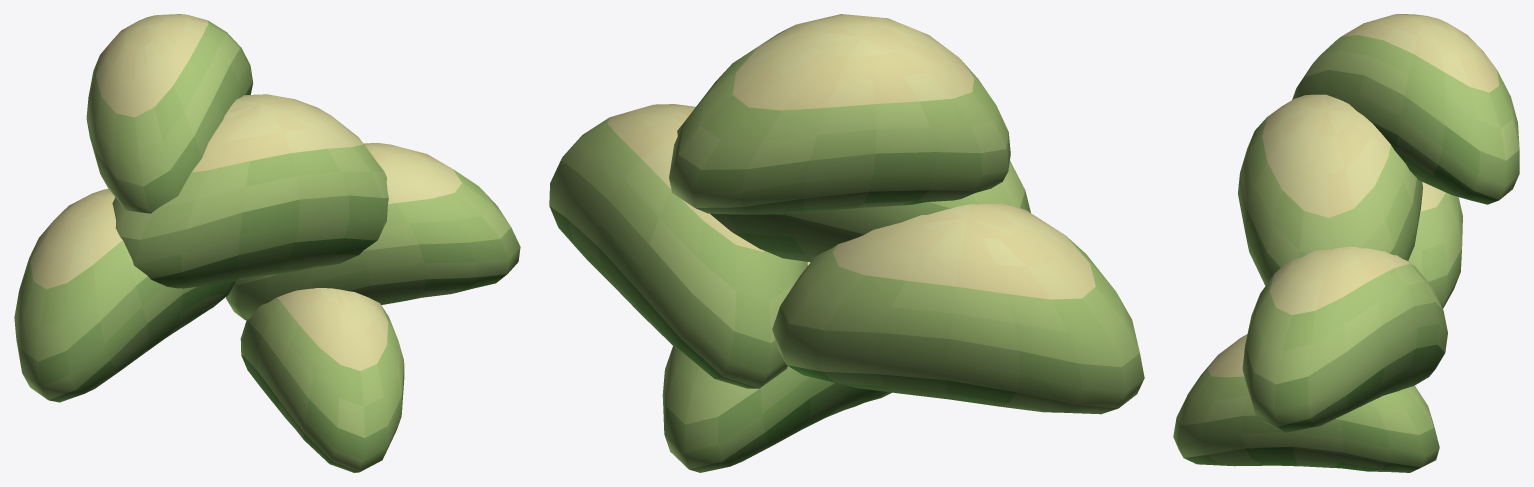
File: Beans.glb
3 views of the same model, side by side, from view 1: azimuth 30°, elevation 25°; view 2: azimuth 150°, elevation 25°; view 3: azimuth 270°, elevation 25° (orthographic). The views are drawn at different scales.
Parts seen in each view (by area): view 1: Bean_0, Bean_1, Bean_3, Bean_4, Bean_2; view 2: Bean_1, Bean_3, Bean_2, Bean_4, Bean_0; view 3: Bean_2, Bean_3, Bean_0, Bean_4, Bean_1.
Part boxes in pixels (x1,y1,x2,y2): Bean_0: (112, 94, 388, 288); Bean_1: (14, 188, 235, 402); Bean_3: (86, 14, 253, 213); Bean_4: (240, 288, 404, 472); Bean_2: (226, 142, 520, 320); Bean_1: (772, 203, 1144, 414); Bean_3: (669, 14, 1010, 214); Bean_2: (549, 104, 807, 388); Bean_4: (662, 262, 891, 472); Bean_0: (677, 123, 1030, 262); Bean_2: (1242, 246, 1447, 432); Bean_3: (1292, 14, 1519, 204); Bean_0: (1238, 94, 1422, 285); Bean_4: (1173, 334, 1439, 472); Bean_1: (1408, 182, 1462, 308).
Bounding box in the file's own units: 0.4046 × 0.3198 × 0.2539.
